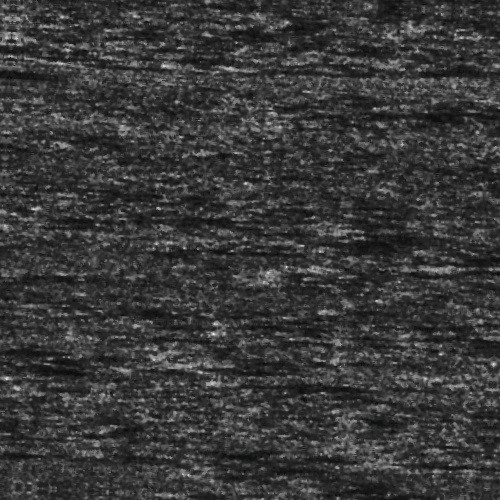object: (405, 251, 500, 262), (231, 493, 304, 500), (204, 377, 267, 384)
shadow: (268, 493, 500, 500), (236, 377, 369, 384), (457, 251, 500, 262)
